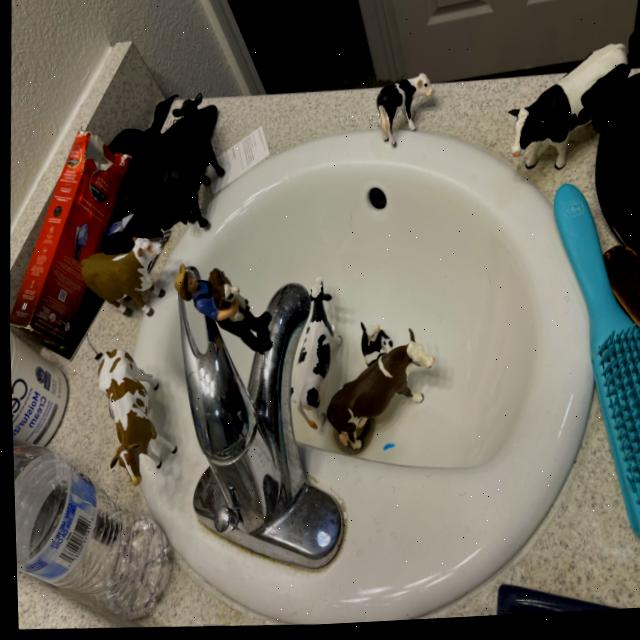cow: (488, 18, 635, 189), (311, 333, 447, 459), (77, 342, 180, 492), (272, 279, 354, 433), (150, 98, 240, 232), (77, 237, 160, 317), (364, 74, 446, 152), (342, 317, 393, 370), (194, 267, 241, 315), (237, 299, 244, 309)
person: (177, 266, 223, 331)
